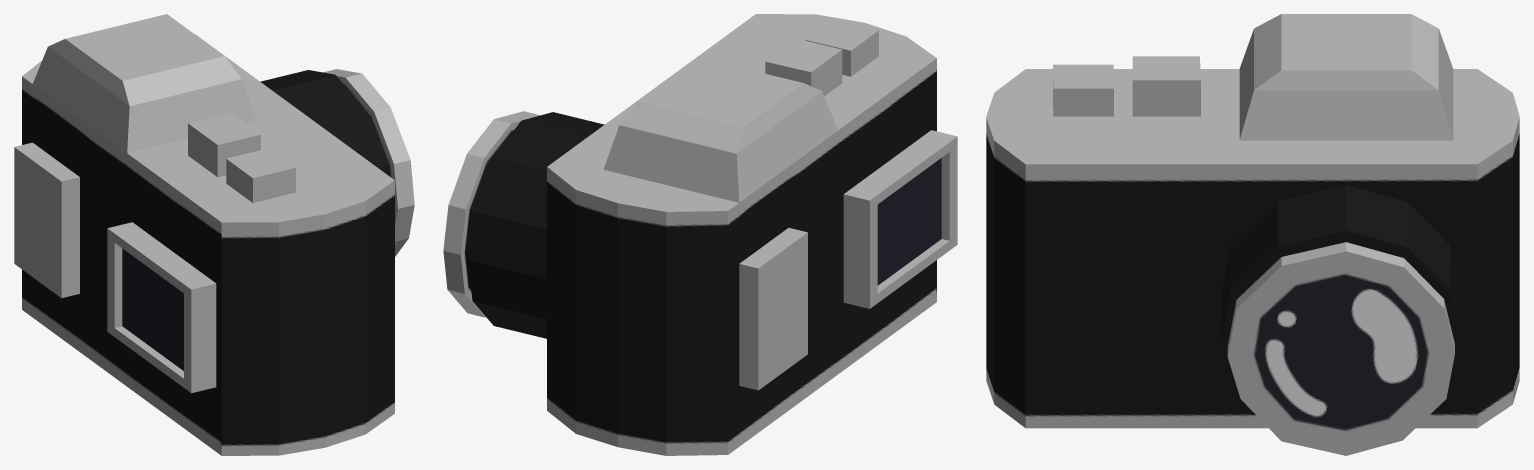
Rendered from Camera.fbx.
3 views of the same model, side by side, from view 1: azimuth 30°, elevation 25°; view 2: azimuth 150°, elevation 25°; view 3: azimuth 270°, elevation 25° (orthographic). The views are drawn at different scales.
Parts seen in each view (by area): view 1: Cube; view 2: Cube; view 3: Cube.
Boxes of the visible parts, x1=… form: Cube: x1=14, y1=14, x2=414, y2=455; Cube: x1=443, y1=14, x2=957, y2=455; Cube: x1=986, y1=14, x2=1519, y2=455.
Size of the model in its own units: 0.8663 by 0.778 by 1.15.
